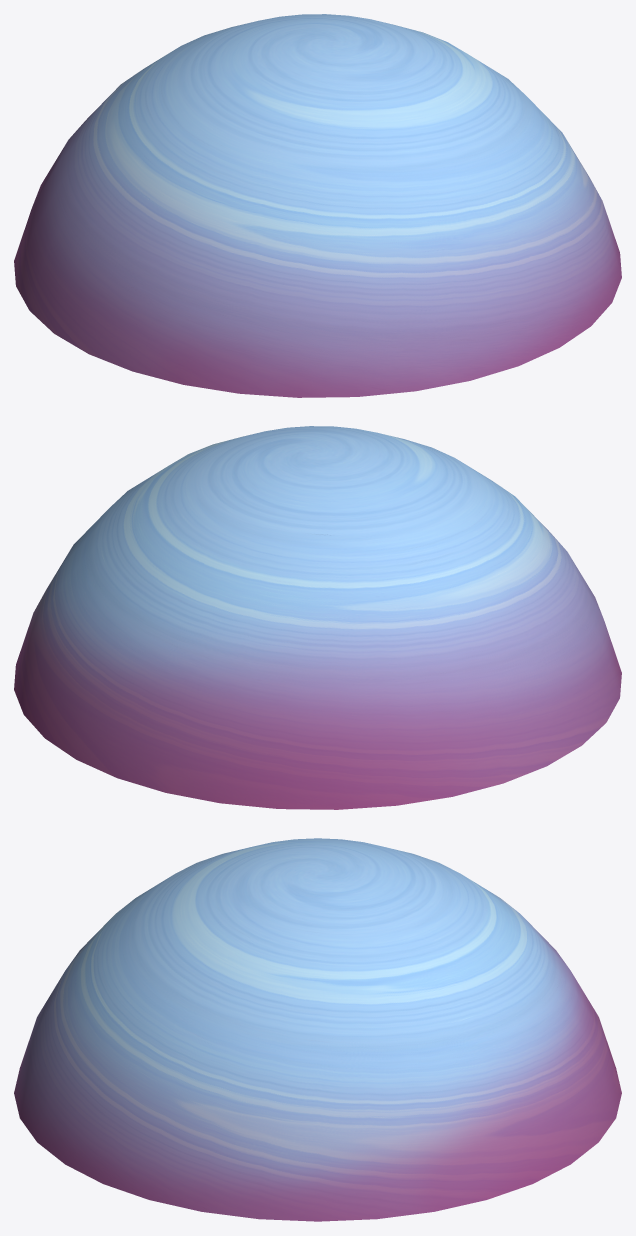
Rendered from sky.obj.
3 views of the same model, one above another, from view 1: azimuth 30°, elevation 25°; view 2: azimuth 150°, elevation 25°; view 3: azimuth 270°, elevation 25° (orthographic).
Visible parts, largest first — view 1: sky_Sphere; view 2: sky_Sphere; view 3: sky_Sphere.
Boxes of the visible parts, x1,y1,x2,y2 form: sky_Sphere: (14,14,621,397); sky_Sphere: (14,426,621,809); sky_Sphere: (14,838,621,1221).
Bounding box in the file's own units: 60.64 × 24.88 × 60.64.
1 material, 1 textured.
